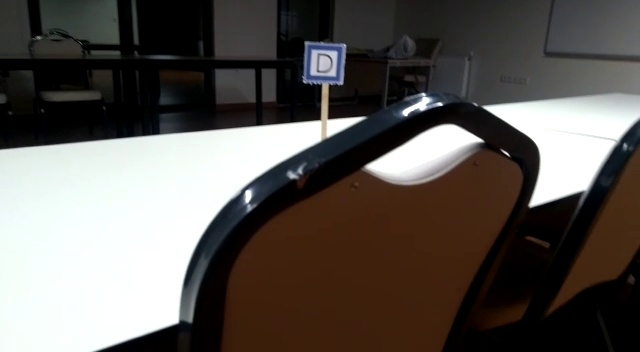durak: (302, 44, 345, 82)
